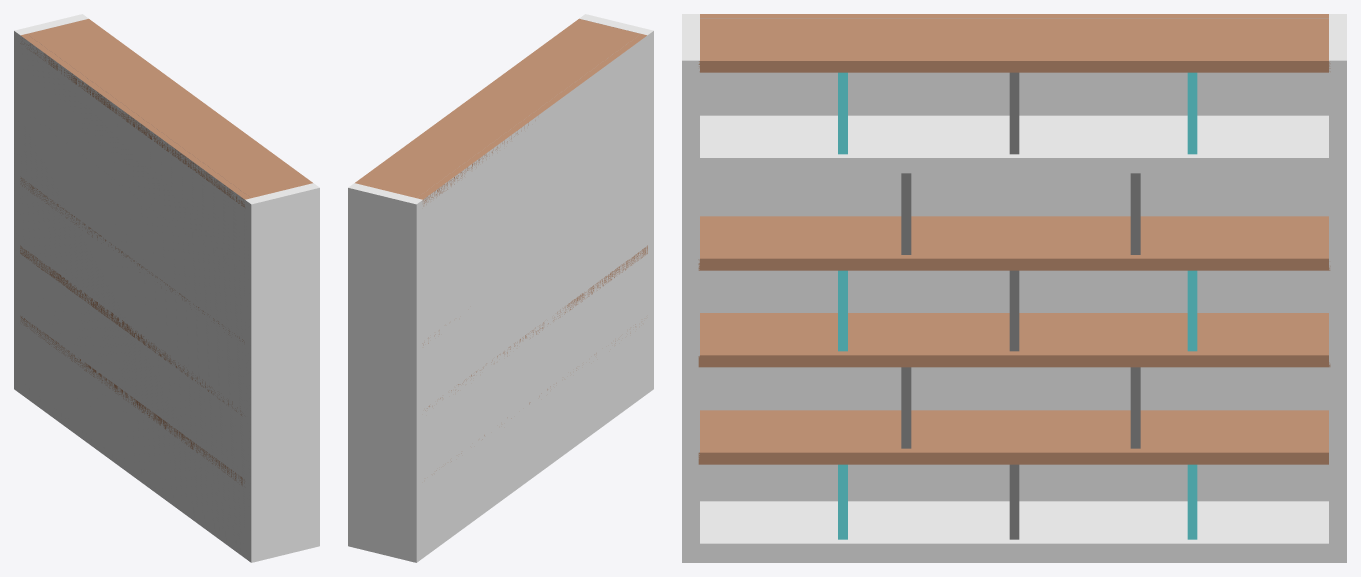
Rendered from BookSeller.fbx.
3 renders of one model, left to right at view 1: azimuth 30°, elevation 25°; view 2: azimuth 150°, elevation 25°; view 3: azimuth 270°, elevation 25°, orthographic. The views are drawn at different scales.
Parts seen in each view (by area): view 1: Cube.010; view 2: Cube.010; view 3: Cube.010.
Part boxes in pixels (left/top/right/bottom): Cube.010: left=14, top=14, right=319, bottom=562; Cube.010: left=348, top=14, right=653, bottom=562; Cube.010: left=682, top=14, right=1346, bottom=562.
Bounding box in the file's own units: 40 × 200 × 240.
